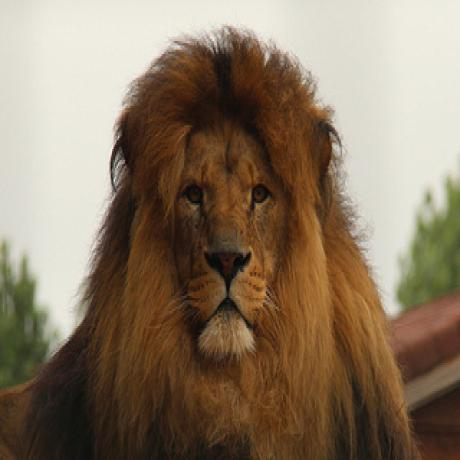Lion: (0, 22, 420, 460)
